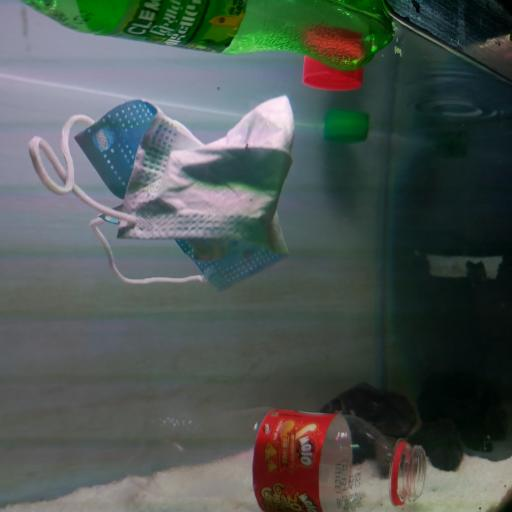bottle_cap: (303, 26, 366, 94), (322, 106, 369, 150)
mask: (28, 94, 296, 290)
plastic_bottle: (126, 400, 433, 509), (26, 0, 399, 75)
